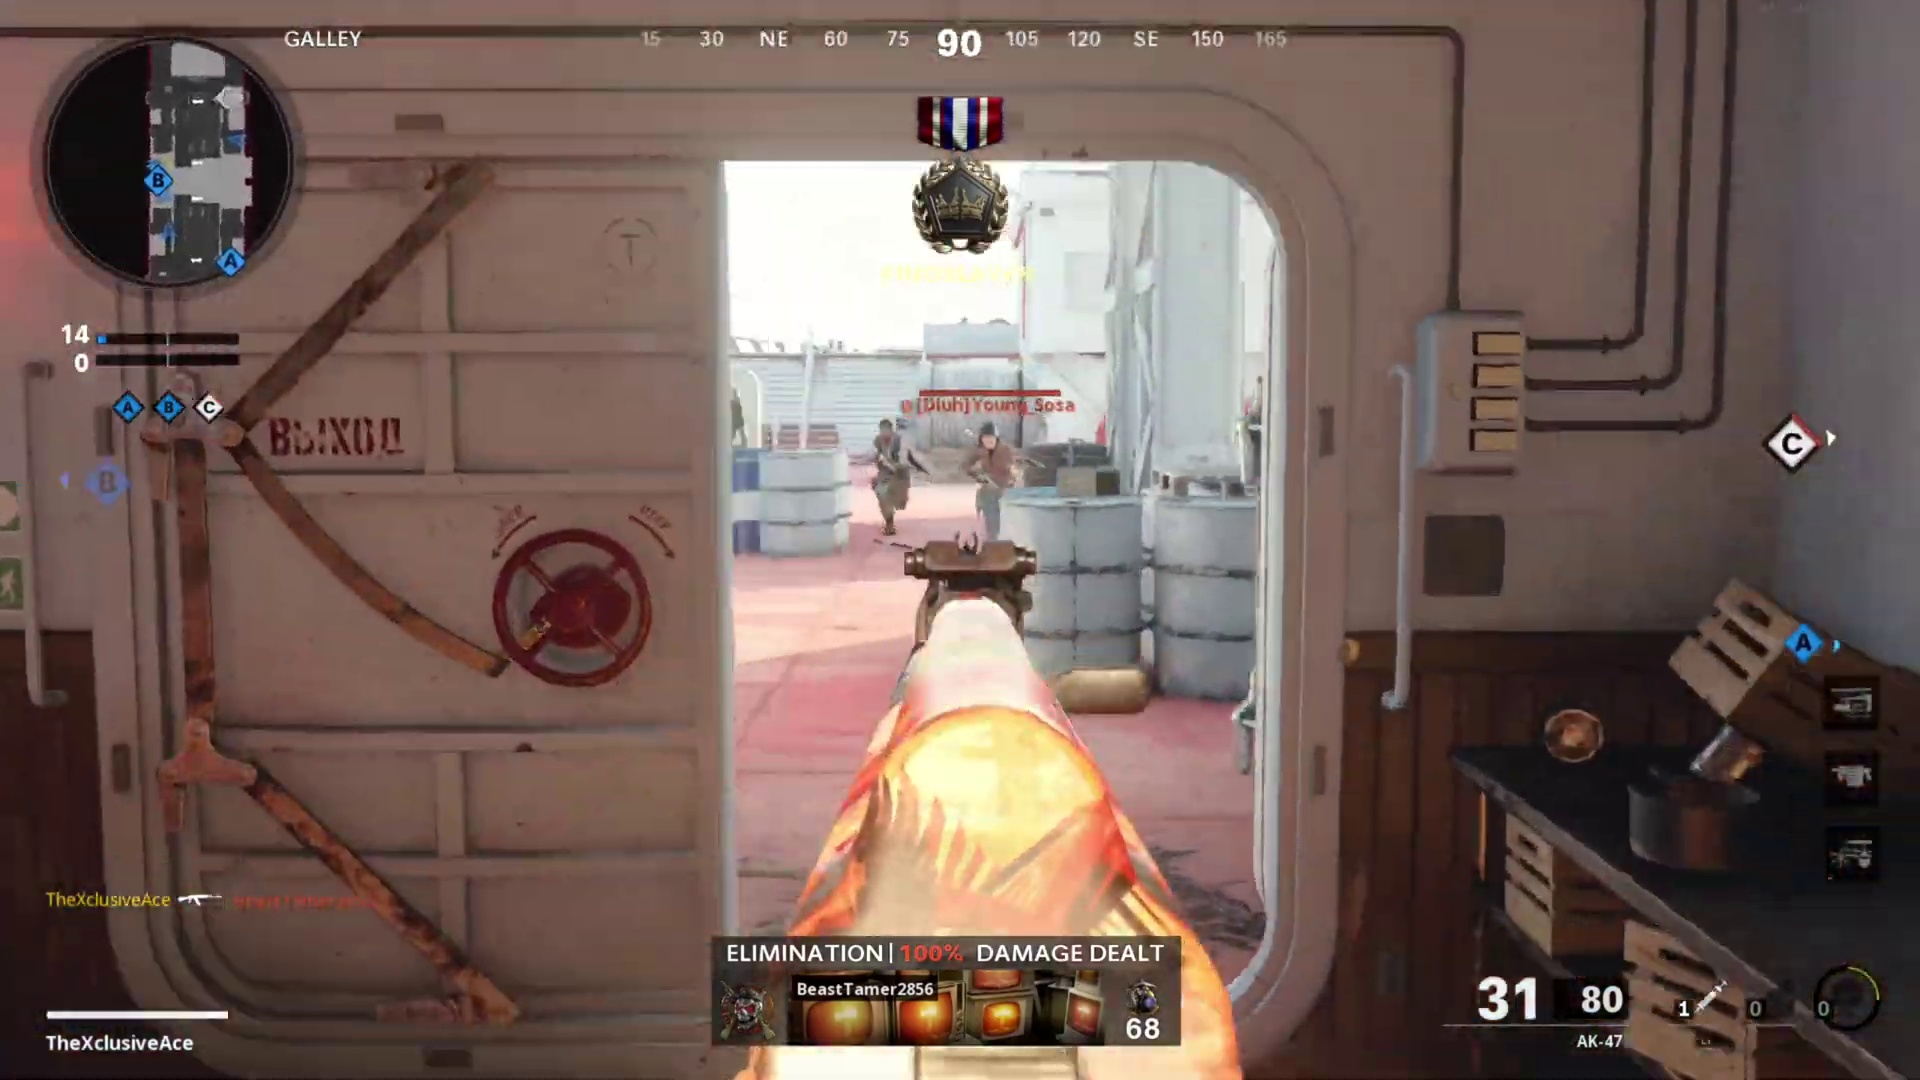head: (975, 420, 1002, 453), (877, 418, 895, 444)
person: (963, 424, 1016, 543), (868, 417, 915, 537)
